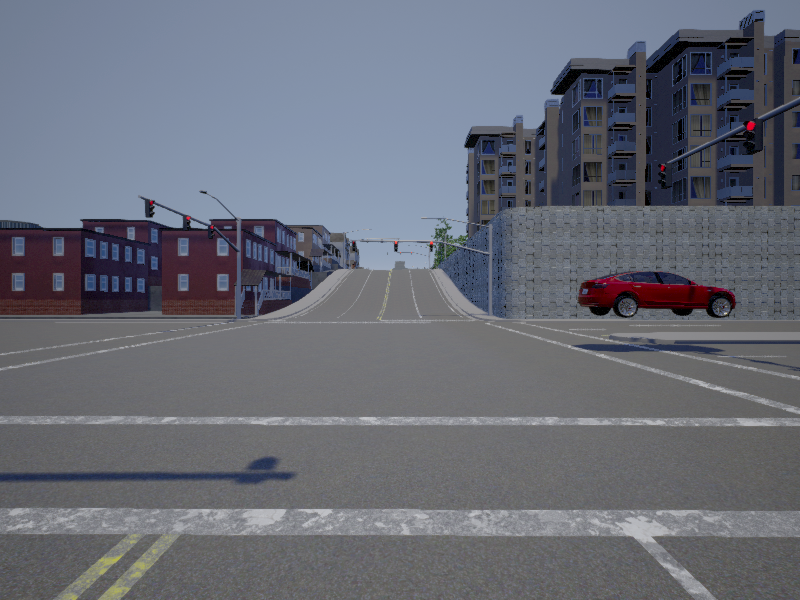Attacker: (578, 269, 736, 316)
